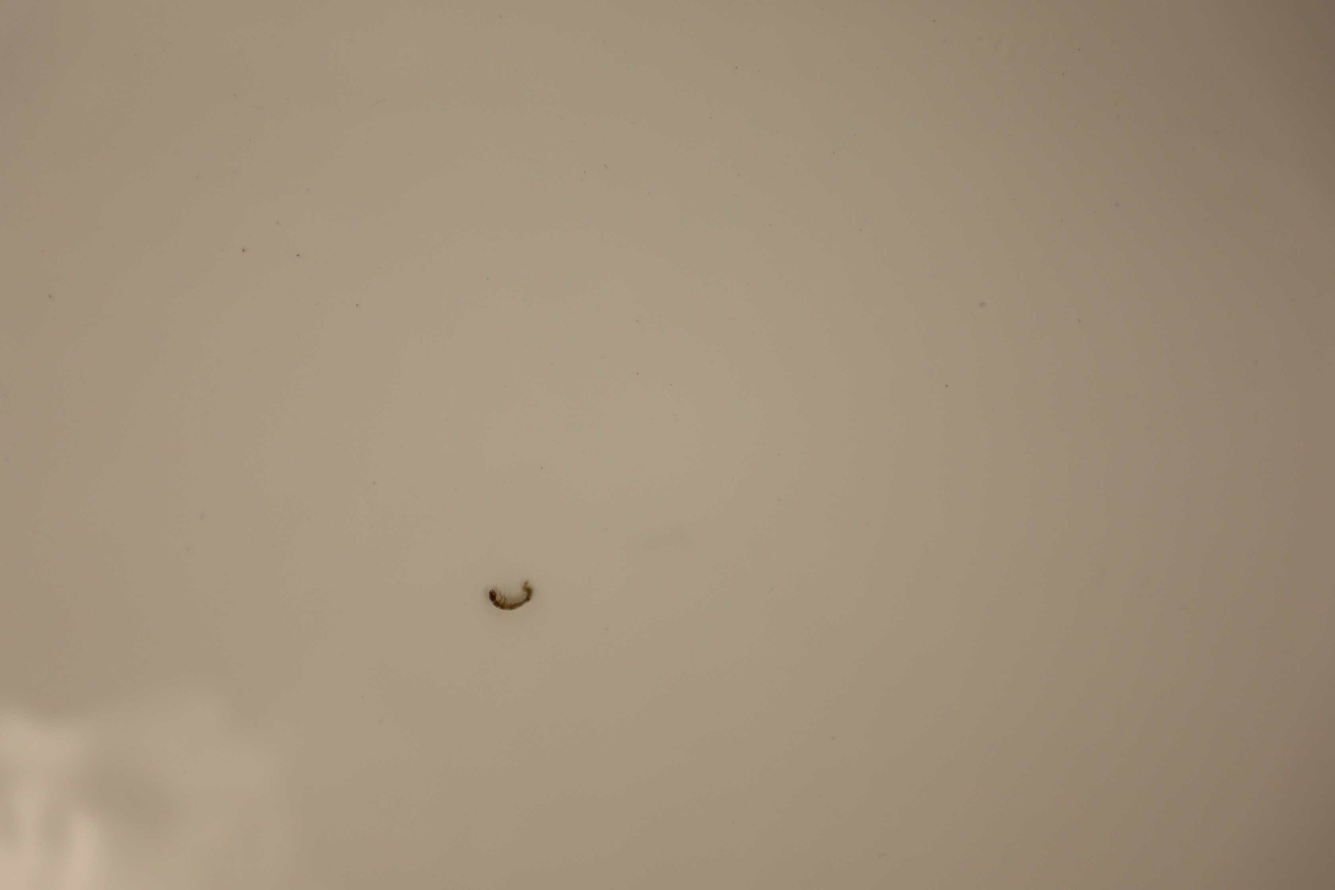Cadisfly: (481, 578, 535, 613)
